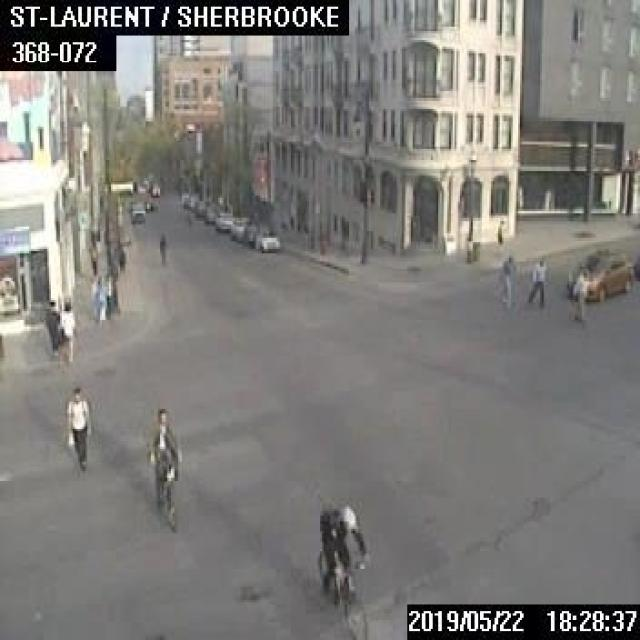cyclist: (311, 500, 367, 638), (143, 404, 180, 529)
pedestrian: (62, 384, 89, 474), (56, 295, 74, 362), (526, 256, 546, 305), (496, 255, 515, 306), (42, 296, 58, 354), (575, 264, 589, 324), (90, 275, 106, 320), (88, 242, 96, 274), (157, 231, 165, 262), (496, 218, 503, 252), (118, 245, 125, 271)
vehicle: (566, 245, 632, 302), (255, 228, 278, 252), (230, 216, 248, 238), (213, 211, 232, 229), (242, 224, 259, 244), (128, 201, 144, 221), (193, 198, 207, 214), (203, 206, 217, 221), (144, 199, 156, 210), (150, 182, 159, 195)
